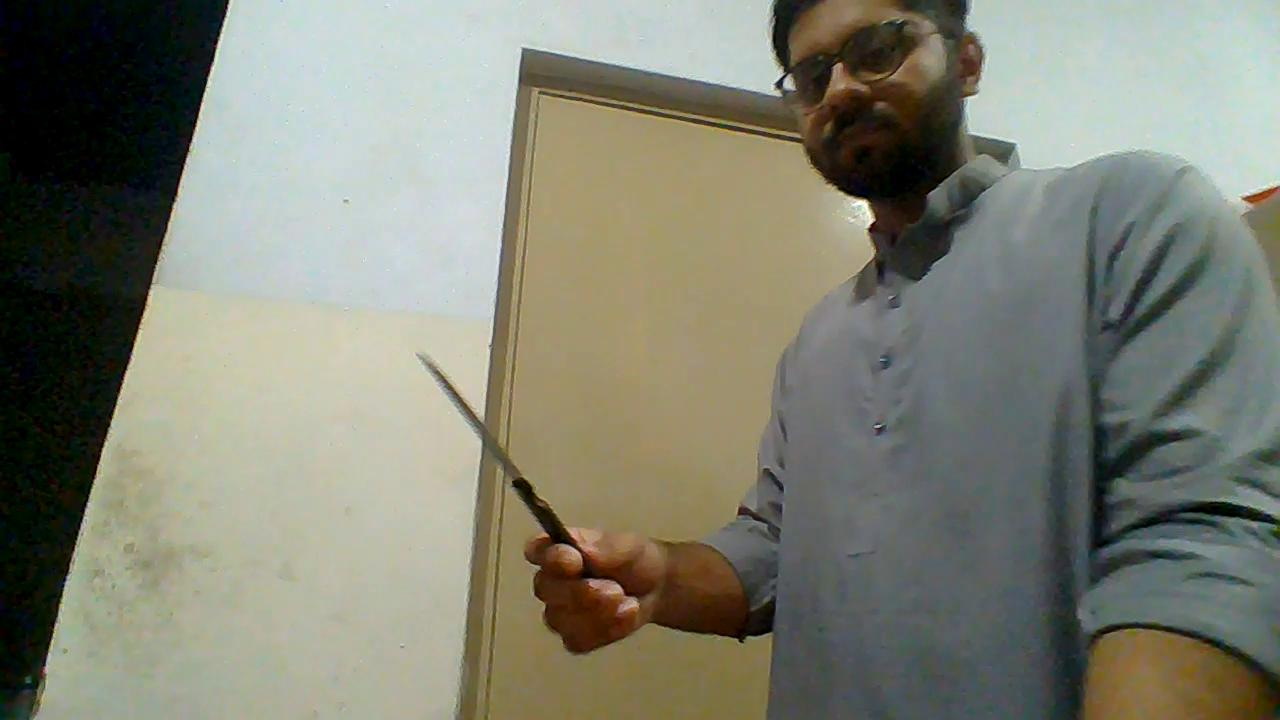criminal: (412, 0, 1280, 720)
weapon: (412, 346, 575, 548)
